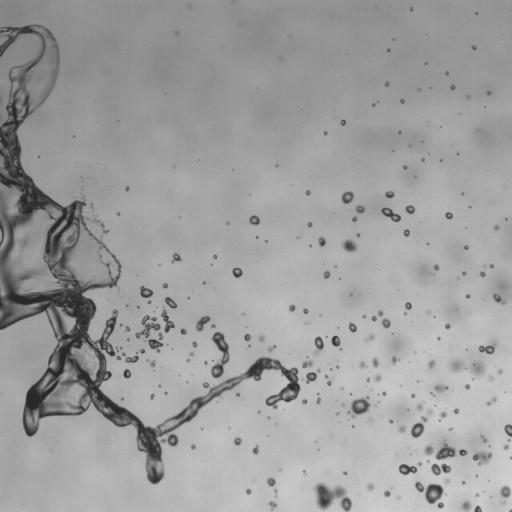droplet: (313, 482, 351, 511), (135, 315, 163, 352), (414, 481, 444, 508), (347, 396, 370, 417), (435, 443, 455, 459), (478, 340, 498, 354), (472, 451, 492, 465), (431, 463, 450, 475), (140, 286, 153, 303), (342, 239, 357, 252), (341, 191, 353, 203), (500, 485, 511, 498), (165, 297, 176, 308), (434, 384, 447, 392), (249, 215, 259, 225), (232, 267, 242, 277), (423, 445, 433, 455), (331, 335, 340, 346), (381, 318, 390, 328), (348, 322, 357, 332), (462, 501, 471, 511), (302, 360, 313, 368), (405, 205, 414, 214), (172, 253, 181, 262), (355, 205, 365, 213), (325, 375, 333, 385), (267, 477, 275, 487), (428, 359, 435, 370), (391, 356, 399, 365), (123, 369, 131, 378), (385, 191, 394, 198), (318, 237, 325, 246), (366, 334, 375, 341), (397, 425, 406, 432), (269, 501, 276, 510), (372, 357, 378, 367), (323, 270, 330, 278), (358, 361, 366, 368), (234, 437, 241, 445), (252, 445, 258, 454), (445, 212, 452, 219), (268, 345, 275, 352), (374, 374, 381, 381), (416, 403, 423, 410), (440, 411, 447, 418), (367, 483, 374, 490), (244, 333, 250, 341), (427, 408, 433, 416), (459, 449, 467, 455), (403, 229, 409, 236), (405, 302, 411, 309), (289, 304, 295, 311), (258, 335, 264, 342), (481, 435, 487, 442), (384, 490, 390, 497), (474, 506, 482, 511), (180, 328, 186, 334), (150, 360, 155, 367), (494, 224, 499, 230), (377, 310, 382, 316), (445, 323, 450, 329), (192, 341, 197, 347), (487, 375, 493, 380), (316, 397, 321, 403), (246, 488, 251, 494), (340, 120, 345, 125), (305, 190, 310, 195), (303, 308, 308, 313), (371, 316, 376, 321), (497, 369, 502, 374), (465, 384, 470, 389), (453, 408, 458, 413), (444, 478, 449, 483), (434, 264, 438, 270), (385, 81, 389, 86), (450, 85, 455, 89), (125, 186, 129, 191), (352, 216, 356, 221), (307, 222, 312, 226), (480, 272, 485, 276), (163, 283, 167, 288), (125, 326, 129, 331), (302, 399, 307, 403), (191, 444, 195, 449), (472, 45, 476, 49), (400, 99, 404, 103), (323, 131, 327, 135), (403, 165, 407, 169), (464, 245, 468, 249), (213, 254, 217, 258), (489, 264, 493, 268), (427, 310, 431, 314), (140, 349, 144, 353), (189, 352, 193, 356), (382, 391, 386, 395), (411, 393, 415, 397), (150, 394, 154, 398), (475, 493, 479, 497), (462, 271, 465, 275), (466, 294, 470, 297), (362, 315, 366, 318), (186, 358, 189, 362), (431, 392, 434, 396), (445, 71, 448, 74), (487, 91, 490, 94), (421, 158, 424, 161), (211, 324, 214, 327), (204, 361, 207, 364), (366, 378, 369, 381), (369, 419, 372, 422), (389, 420, 392, 423), (343, 471, 346, 474), (397, 496, 400, 499), (303, 470, 305, 474), (176, 31, 178, 34), (467, 95, 469, 98), (372, 103, 375, 105), (398, 131, 401, 133), (226, 222, 229, 224), (356, 234, 359, 236), (483, 265, 486, 267), (437, 337, 440, 339), (336, 366, 339, 368), (236, 393, 239, 395), (121, 397, 123, 400), (375, 403, 377, 406), (462, 481, 465, 483), (90, 204, 92, 206), (117, 213, 119, 215), (404, 312, 406, 314), (120, 324, 122, 326), (509, 509, 511, 511)
ligament: (0, 25, 298, 484), (211, 331, 229, 378), (448, 358, 485, 379), (410, 416, 427, 438), (161, 308, 174, 332), (398, 462, 421, 475), (21, 232, 40, 247), (381, 208, 400, 221), (303, 369, 320, 383), (196, 316, 210, 331), (503, 424, 511, 449), (314, 336, 323, 355), (493, 293, 505, 304), (486, 396, 497, 405), (274, 488, 277, 496), (510, 456, 511, 459)
